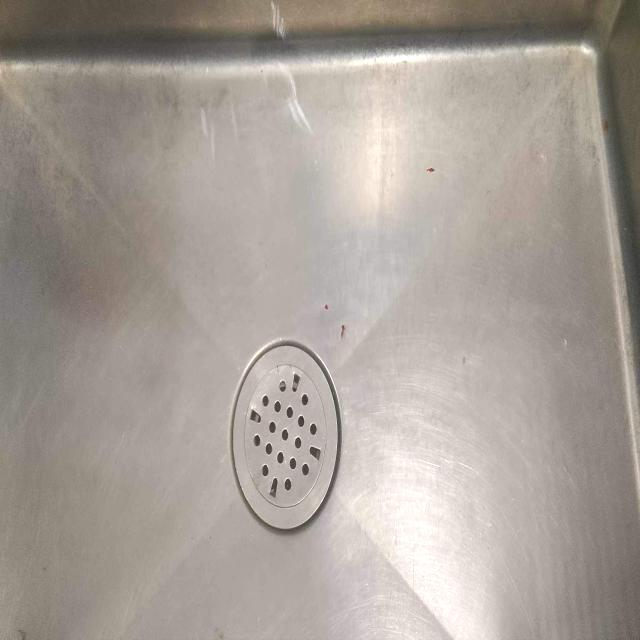Pathological: (2, 20, 639, 637)
Sharps: (229, 337, 344, 531)
